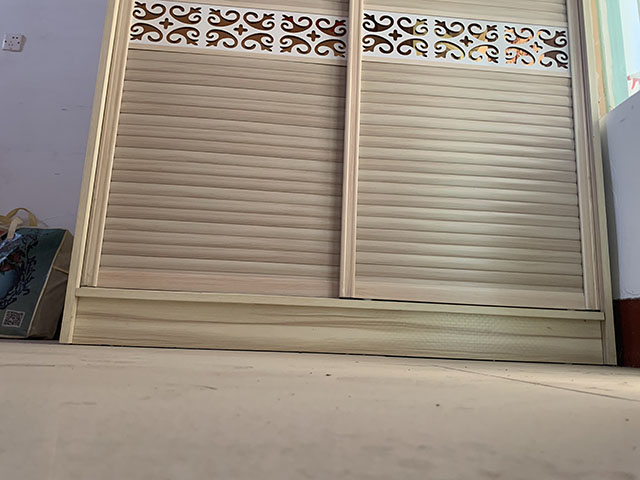cabinet: (57, 1, 619, 367)
